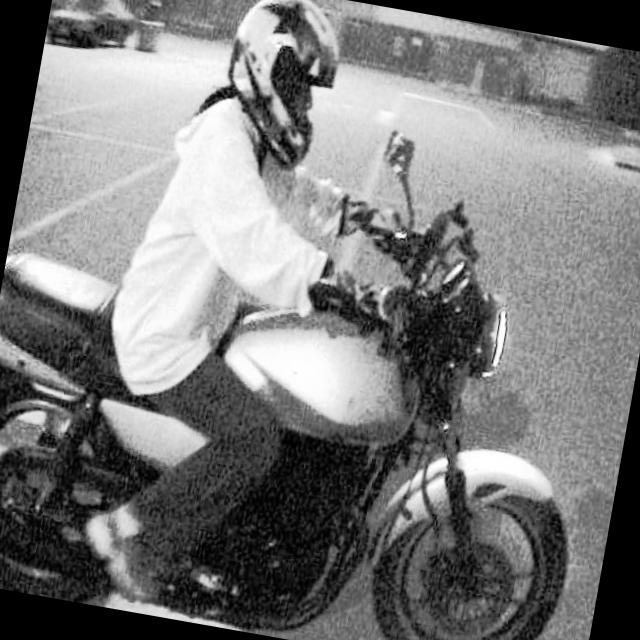Motorcycle: (0, 134, 634, 640)
Person: (54, 0, 357, 611)
